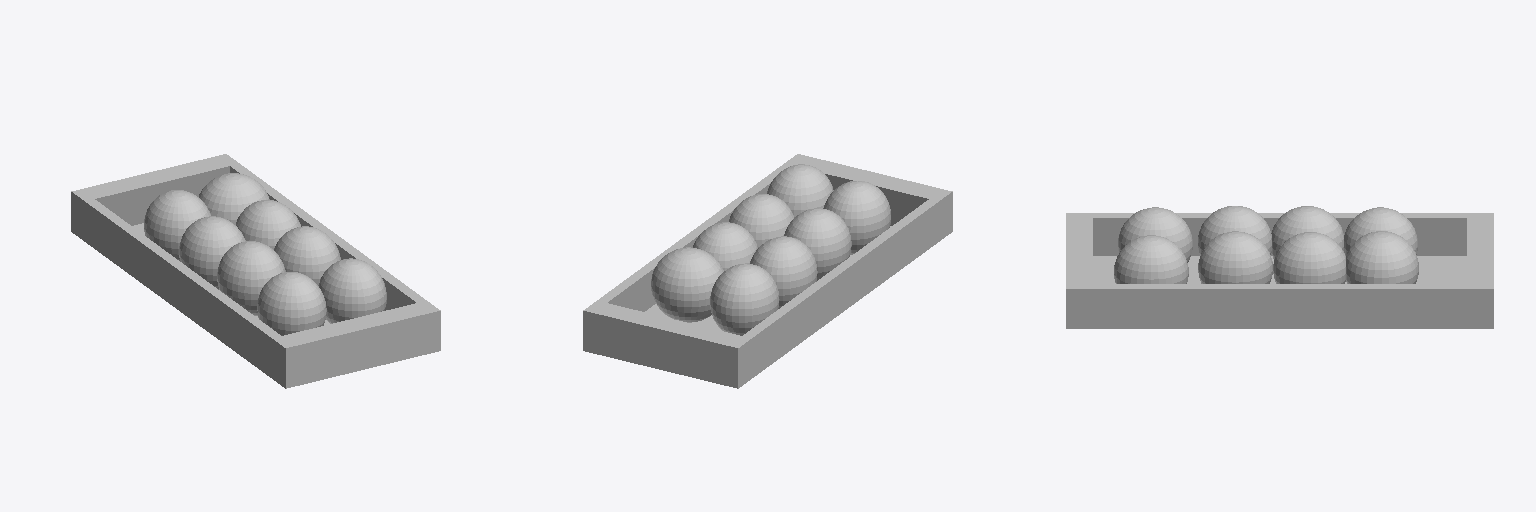
The model's file is KUE CIPUT.obj.
The picture shows the model from 3 angles: view 1: azimuth 30°, elevation 25°; view 2: azimuth 150°, elevation 25°; view 3: azimuth 270°, elevation 25°; orthographic projection.
Visible parts, largest first — view 1: Cube, Sphere.001, Sphere, Sphere.002, Sphere.005, Sphere.007, Sphere.003, Sphere.006, Sphere.004; view 2: Cube, Sphere.006, Sphere.007, Sphere.001, Sphere.005, Sphere.002, Sphere, Sphere.003, Sphere.004; view 3: Cube, Sphere.003, Sphere.006, Sphere.004, Sphere, Sphere.001, Sphere.005, Sphere.002, Sphere.007.
Part boxes in pixels (x1,y1,x2,y2): Cube: (71, 154, 440, 388); Sphere.001: (257, 272, 326, 335); Sphere: (319, 258, 386, 323); Sphere.002: (217, 241, 285, 315); Sphere.005: (179, 216, 245, 289); Sphere.007: (144, 190, 210, 260); Sphere.003: (274, 226, 340, 285); Sphere.006: (199, 173, 269, 224); Sphere.004: (236, 200, 300, 249); Cube: (583, 154, 952, 388); Sphere.006: (651, 247, 723, 322); Sphere.007: (710, 263, 779, 335); Sphere.001: (823, 181, 890, 254); Sphere.005: (750, 236, 817, 308); Sphere.002: (784, 208, 851, 281); Sphere: (767, 164, 833, 217); Sphere.003: (729, 194, 793, 247); Sphere.004: (693, 222, 757, 270); Cube: (1066, 213, 1493, 328); Sphere.003: (1198, 231, 1272, 283); Sphere.006: (1346, 231, 1418, 283); Sphere.004: (1273, 232, 1345, 283); Sphere: (1114, 235, 1188, 283); Sphere.001: (1118, 207, 1192, 262); Sphere.005: (1271, 206, 1343, 258); Sphere.002: (1198, 206, 1271, 255); Sphere.007: (1344, 207, 1417, 255).
Bounding box in the file's own units: 0.7067 × 0.311 × 1.69.